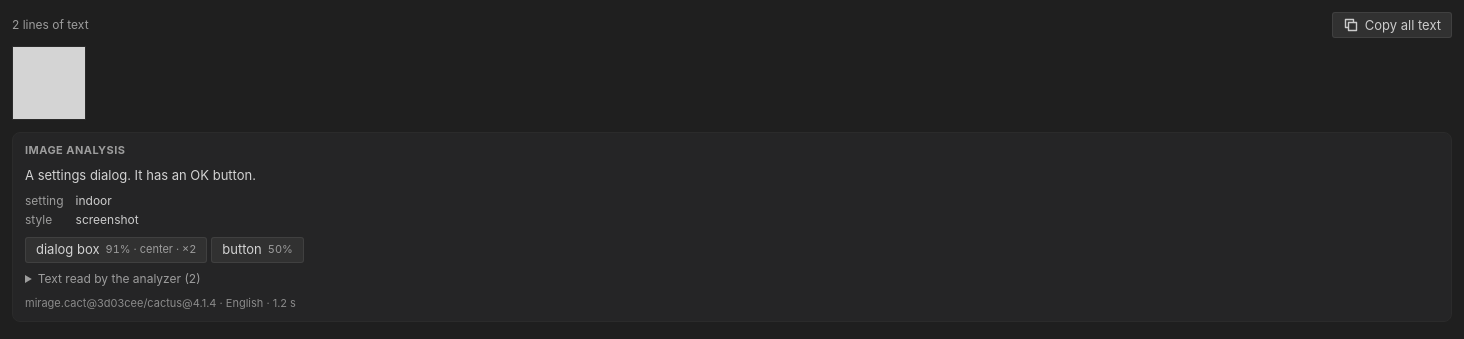
Test: ScreenshotPreview › outlines the selected object on the image
Click the button "button 50%".
click(258, 250)  # box x1=211 y1=237 x2=304 y2=263
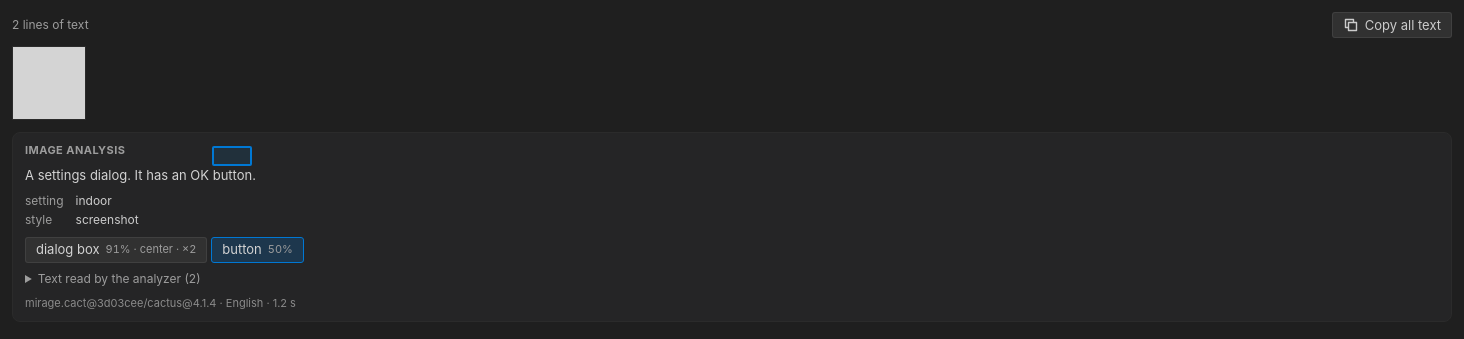
Click the button "button 50%".
click(258, 250)  # box x1=211 y1=237 x2=304 y2=263
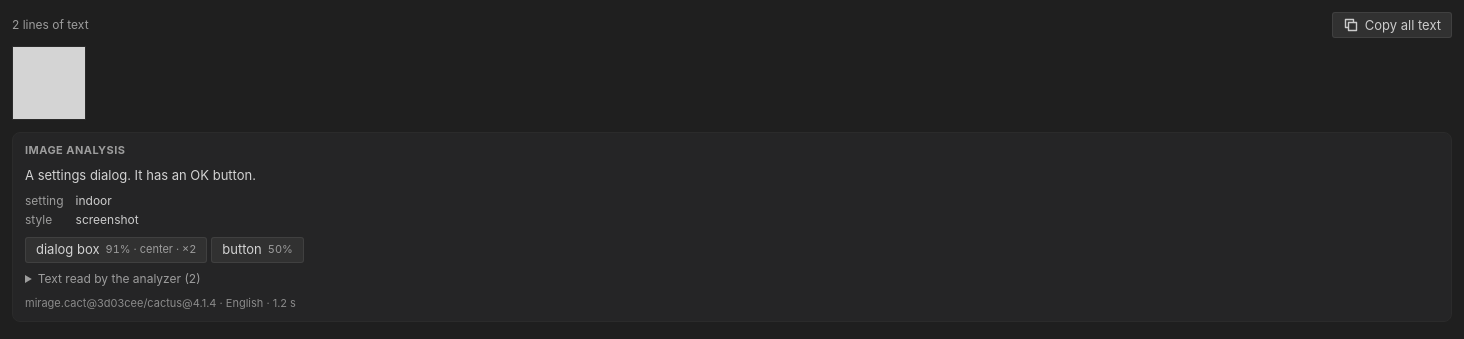
Now the element with test id "screenshot-highlight" is gone
